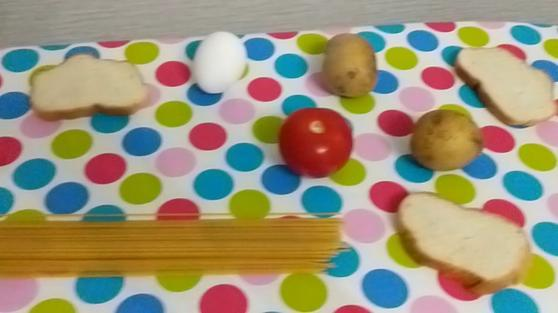egg: (184, 22, 253, 98)
potato: (402, 104, 487, 177), (312, 31, 389, 98)
spaghetti: (1, 205, 357, 285)
tomato: (275, 104, 361, 178)
white_bread: (384, 182, 542, 301), (451, 37, 558, 132), (29, 43, 154, 122)
